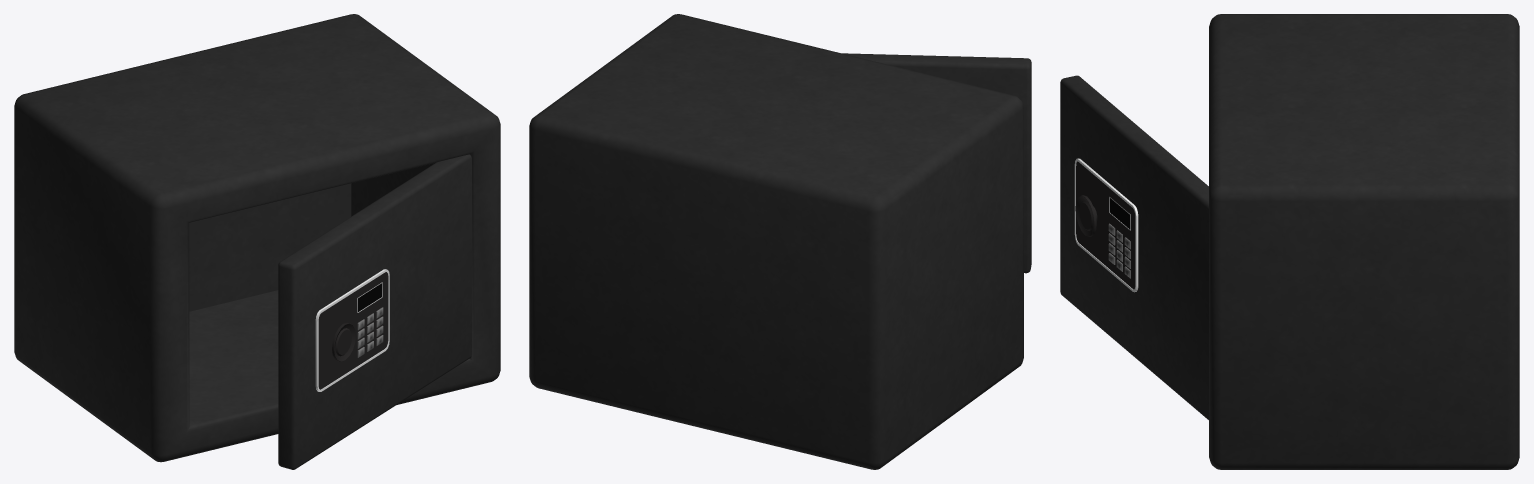
Rendered from Safe.fbx.
3 renders of one model, left to right at view 1: azimuth 30°, elevation 25°; view 2: azimuth 150°, elevation 25°; view 3: azimuth 270°, elevation 25°, orthographic. The views are drawn at different scales.
Parts seen in each view (by area): view 1: Safe; view 2: Safe; view 3: Safe.
Boxes of the visible parts, x1,y1,x2,y2 form: Safe: [14, 14, 500, 469]; Safe: [529, 14, 1031, 469]; Safe: [1060, 14, 1519, 469].
Bounding box in the file's own units: 71.33 × 52.33 × 76.69.
